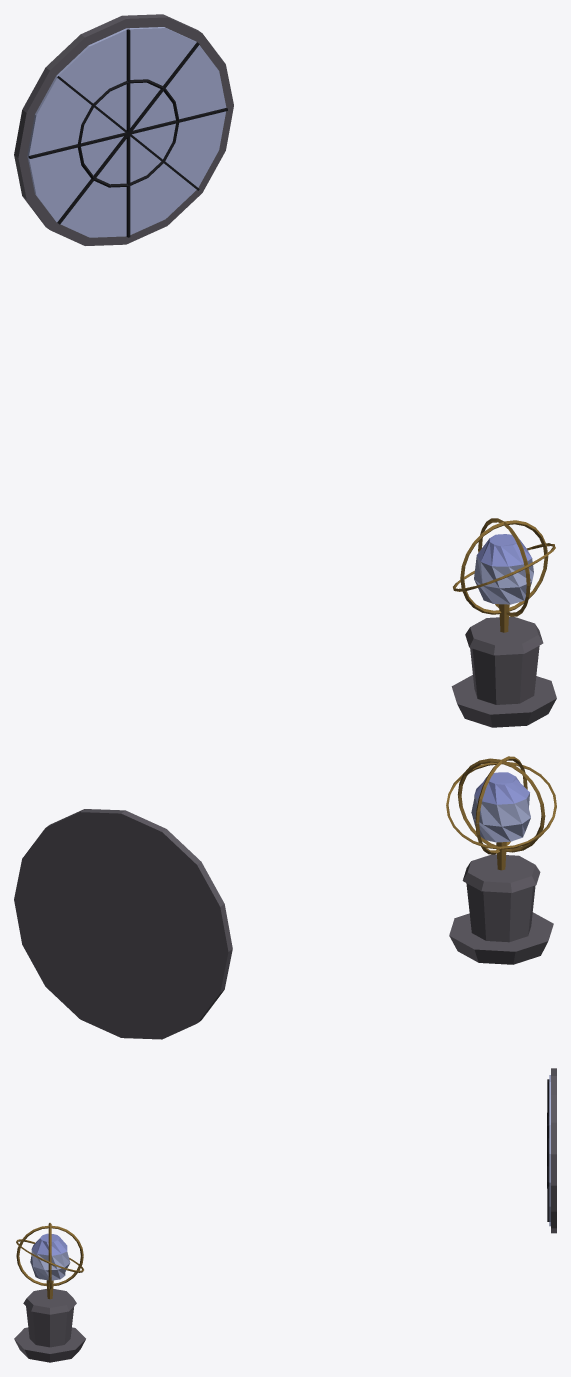
Rendered from moon-archive-moon.glb.
3 views of the same model, one above another, from view 1: azimuth 30°, elevation 25°; view 2: azimuth 150°, elevation 25°; view 3: azimuth 270°, elevation 25° (orthographic). The views are drawn at different scales.
Visible parts, largest first — view 1: moon-archive-moon; view 2: moon-archive-moon; view 3: moon-archive-moon.
Part boxes in pixels (x1,y1,x2,y2): moon-archive-moon: (14,14,556,727); moon-archive-moon: (14,756,556,1039); moon-archive-moon: (14,1068,556,1362).
Bounding box in the file's own units: 3.38 × 6.19 × 11.12.
